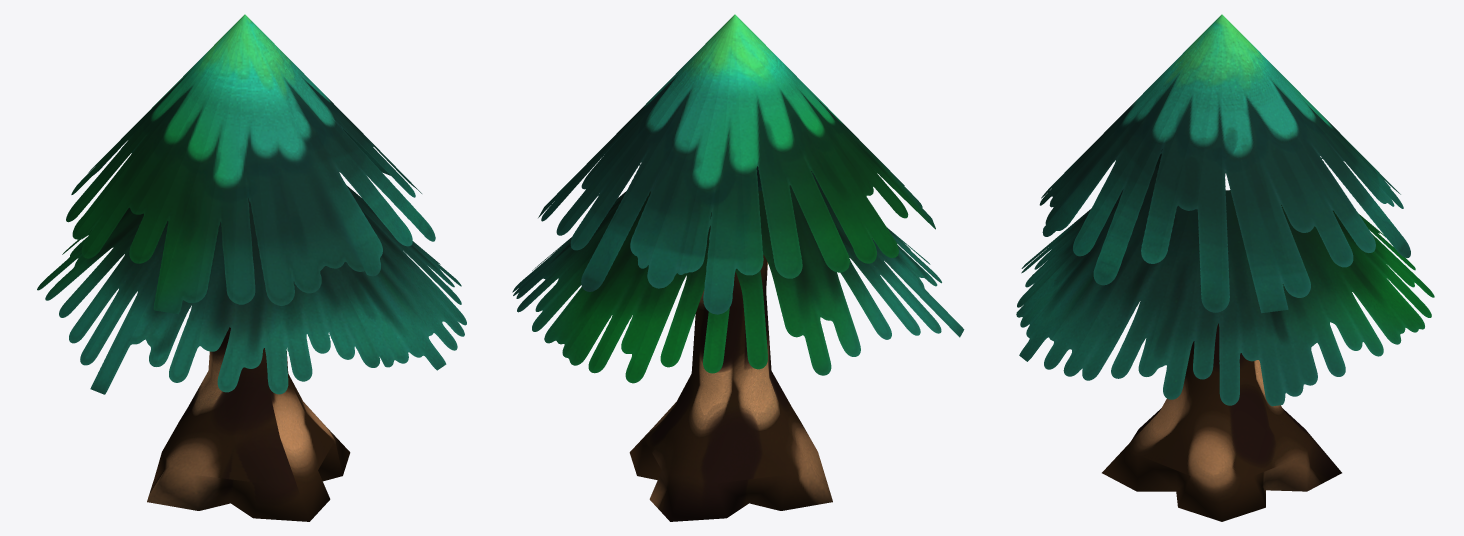
Rendered from صنوبر_صغير.glb.
3 renders of one model, left to right at view 1: azimuth 30°, elevation 25°; view 2: azimuth 150°, elevation 25°; view 3: azimuth 270°, elevation 25°, orthographic.
Parts seen in each view (by area): view 1: Object_22; view 2: Object_22; view 3: Object_22.
Part boxes in pixels (box(x1,y1,x2,y2)): Object_22: box(37, 14, 466, 521); Object_22: box(512, 14, 964, 521); Object_22: box(1016, 14, 1434, 521).
Bounding box in the file's own units: 1.46 × 1.62 × 1.46.
Materials: 1 (1 with a texture image).
